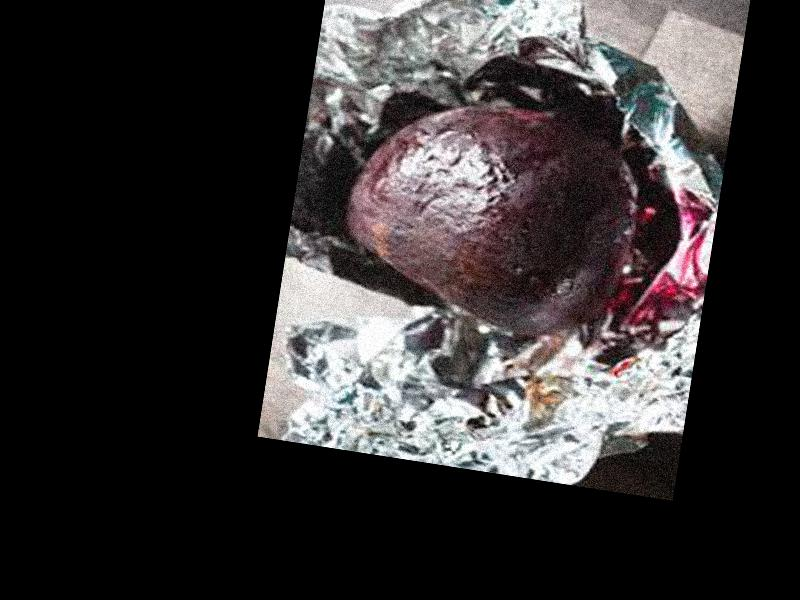Beet: (330, 79, 639, 347)
